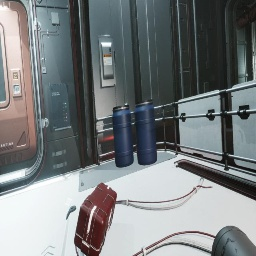FirstAidBox ,: (74, 182, 117, 256)
NitrogenTank ,: (211, 226, 256, 256)
SafetySwitchPanel ,: (98, 35, 116, 88)
